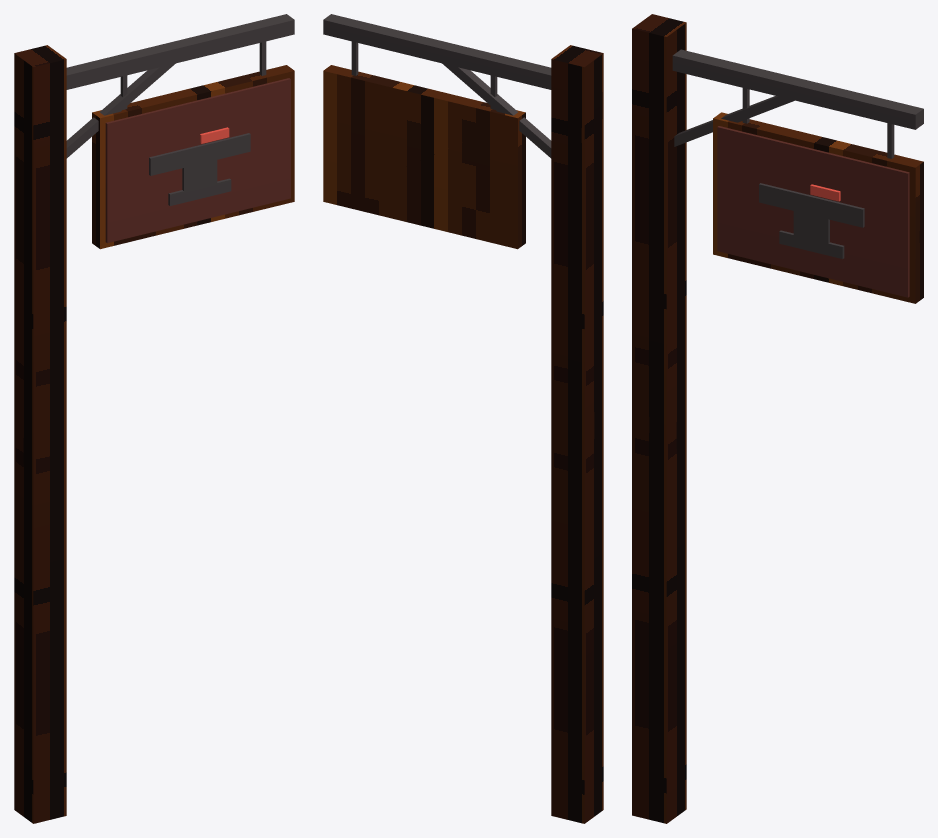
File: forge_sign.glb
The picture shows the model from 3 angles, left to right: view 1: azimuth 30°, elevation 25°; view 2: azimuth 150°, elevation 25°; view 3: azimuth 330°, elevation 25°; orthographic projection. The views are drawn at different scales.
Parts seen in each view (by area): view 1: forge_sign; view 2: forge_sign; view 3: forge_sign.
Part boxes in pixels (<box>): forge_sign: <box>14,14,294,823</box>; forge_sign: <box>323,14,603,823</box>; forge_sign: <box>632,14,923,823</box>.
Size of the model in its own units: 0.96 by 2.6 by 0.12.
Materials: 3 (1 with a texture image).
